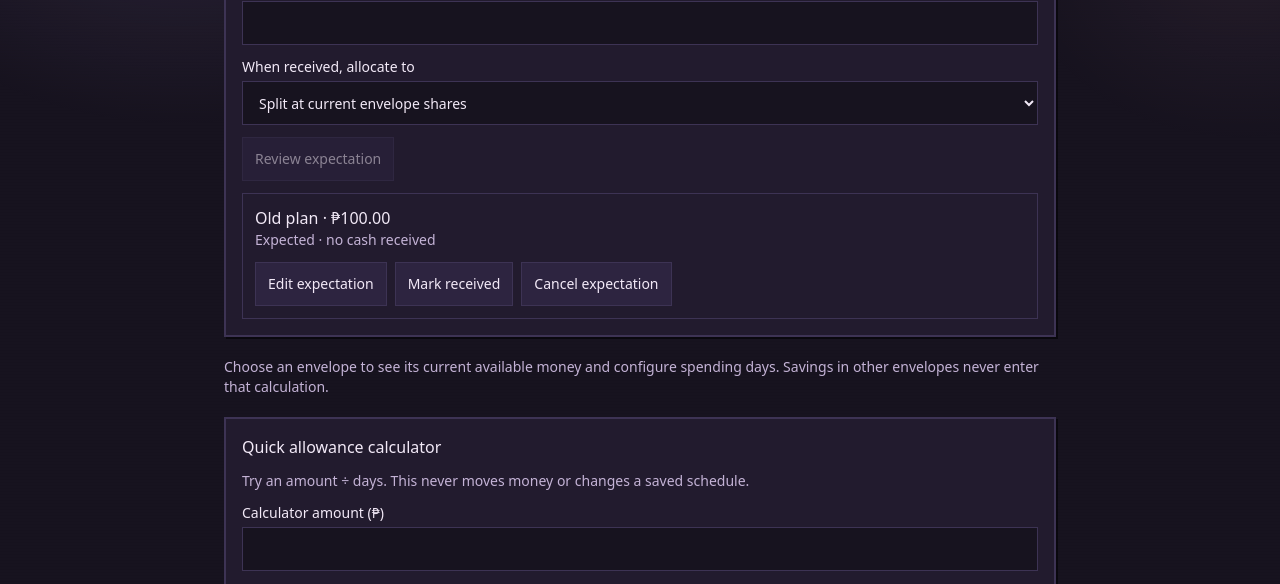
Test: updates an expectation with a stale-aware revision and cancels it without a cash entry
This screenshot has width=1280, height=584.
(page scrolled)
expect the text "Old plan · ₱100.00" is shown: met, box top-left (255, 207), bottom-right (390, 229)
Click the button "Edit expectation".
click(321, 284)  # box top-left (255, 262), bottom-right (387, 306)
(page scrolled)
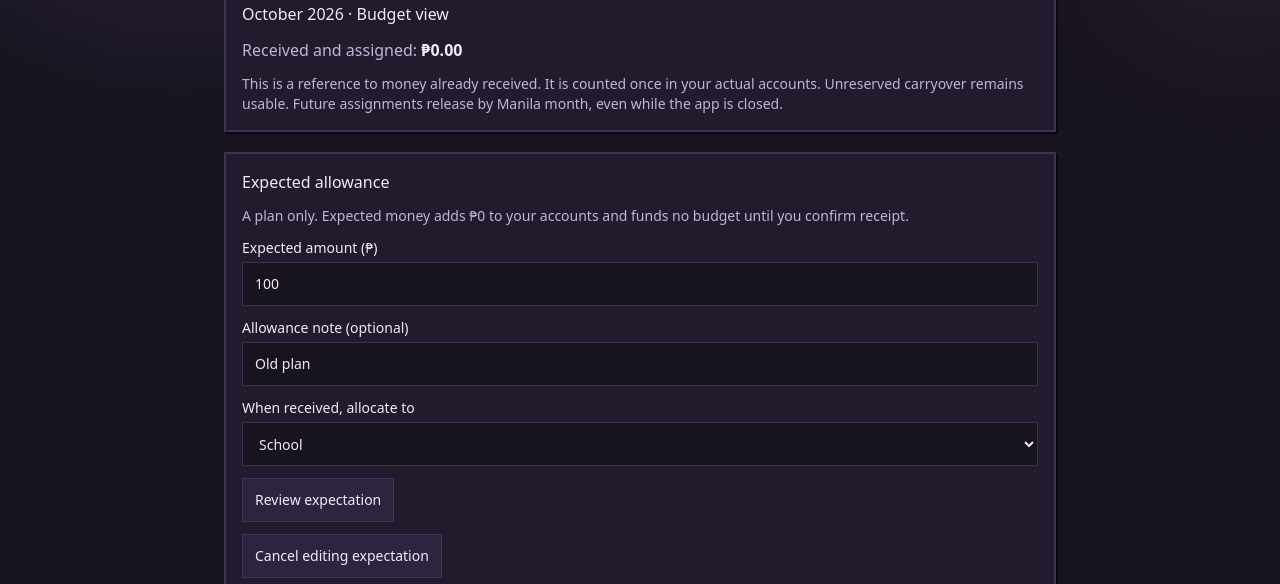
Replace the text in the field labelled "Expected amount (₱)" with "200" at {"x": 640, "y": 284}, box top-left (242, 262), bottom-right (1038, 306)
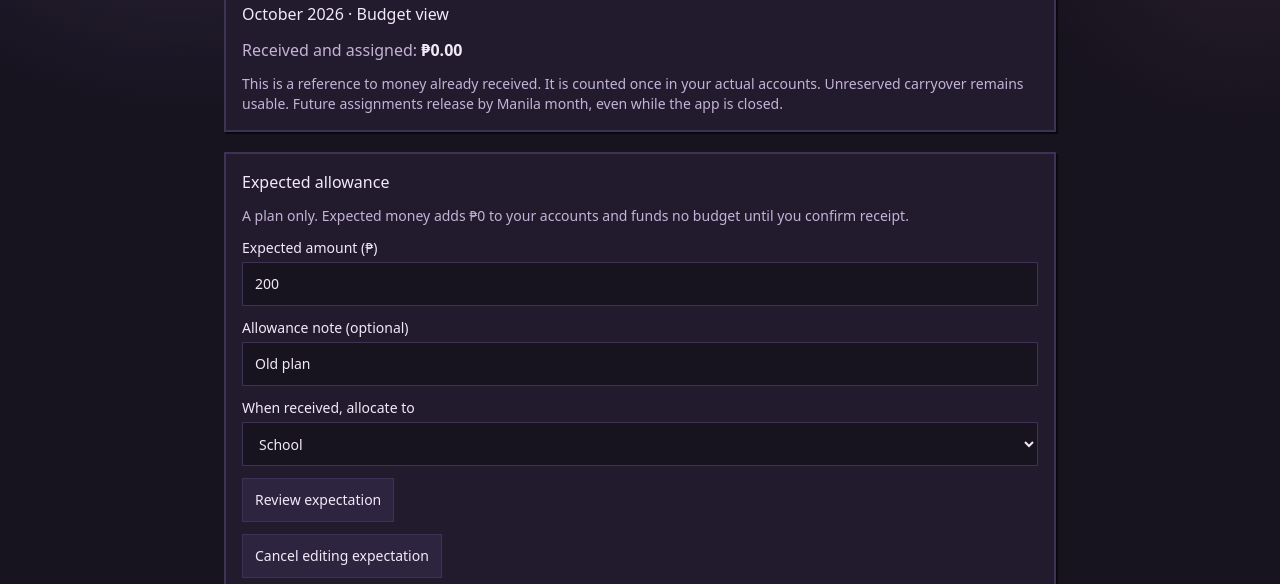
Click the button "Review expectation".
click(318, 500)  # box top-left (242, 478), bottom-right (394, 522)
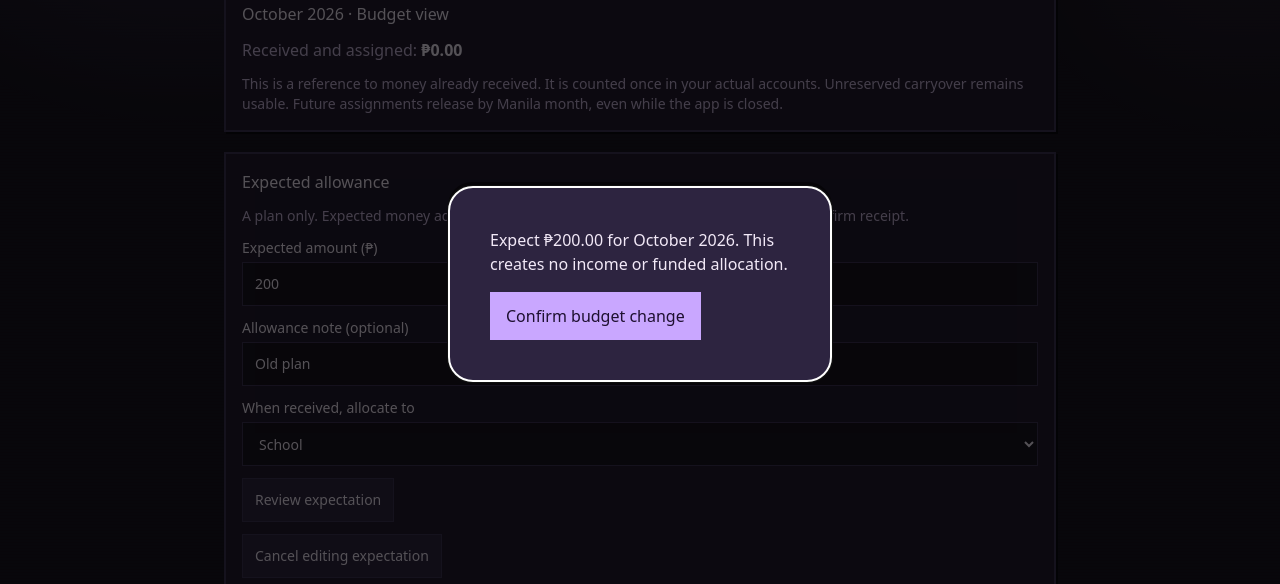
Click the button "Confirm budget change".
click(595, 316)  # box top-left (490, 292), bottom-right (701, 340)
(page scrolled)
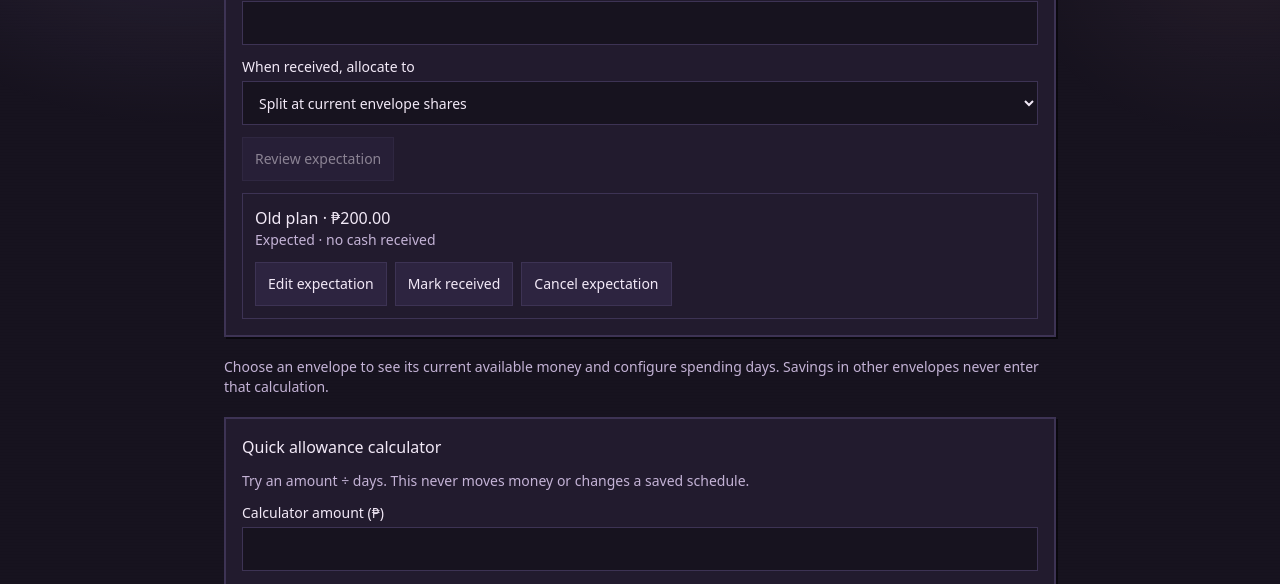
expect the text "Old plan · ₱200.00" is shown: met, box top-left (255, 207), bottom-right (390, 229)
Click the button "Cancel expectation".
click(596, 284)  # box top-left (521, 262), bottom-right (672, 306)
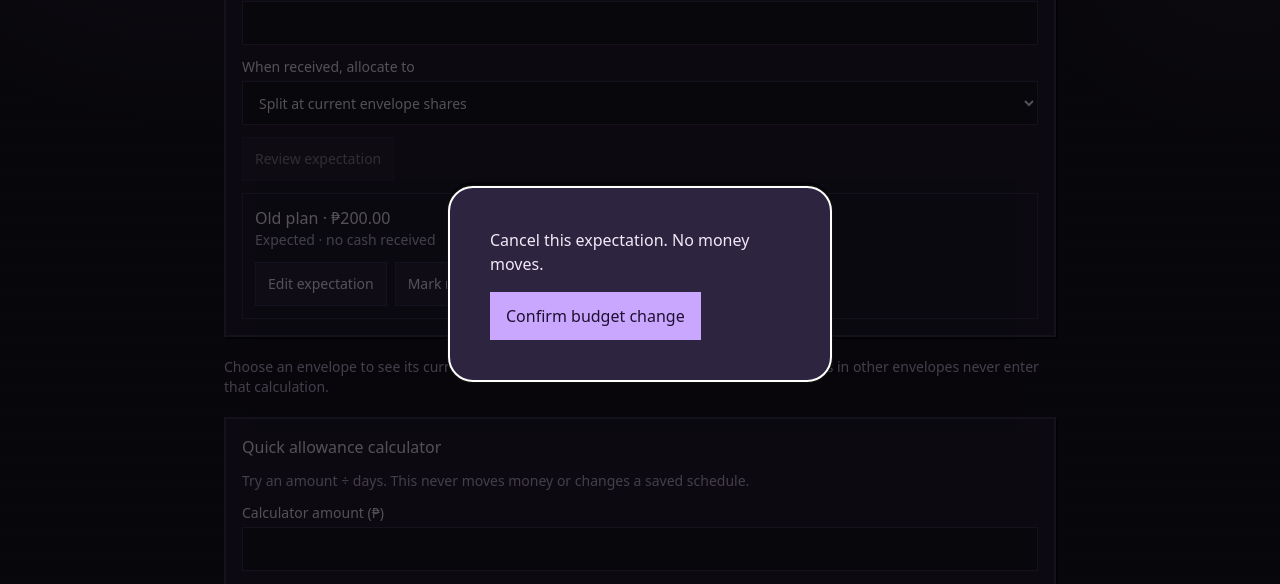
Click the button "Confirm budget change".
click(595, 316)  # box top-left (490, 292), bottom-right (701, 340)
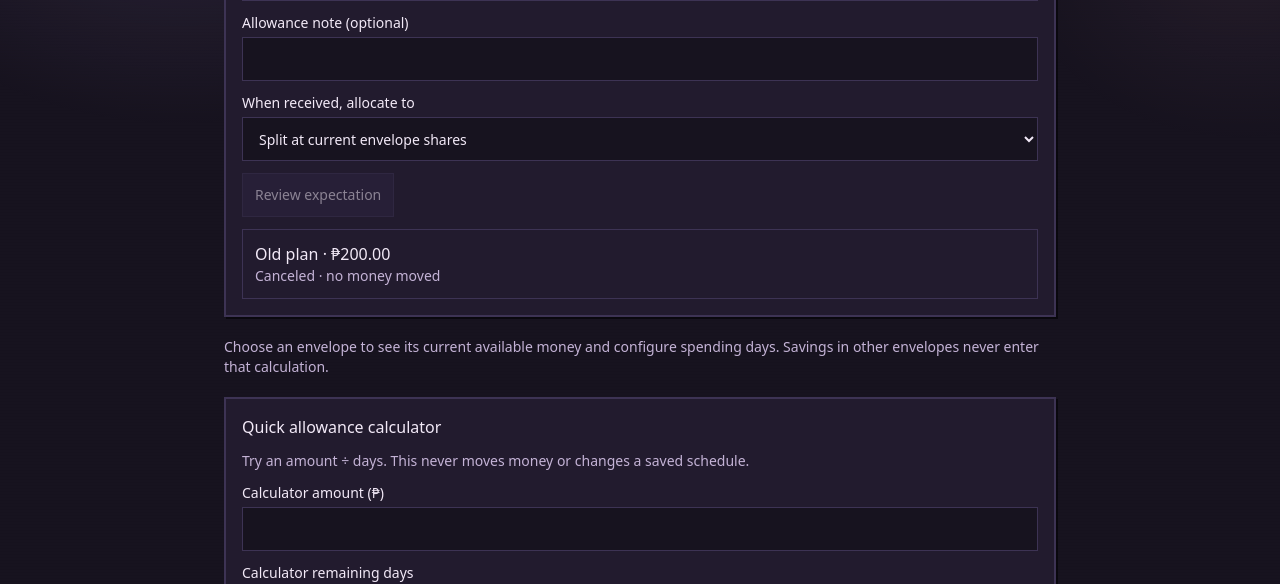
expect the text "Canceled · no money moved" is shown: met, box top-left (255, 266), bottom-right (440, 285)
